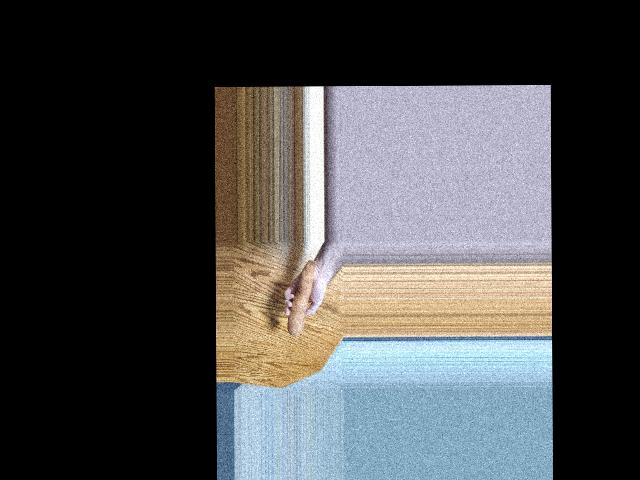sweet_potato: (285, 263, 314, 339)
